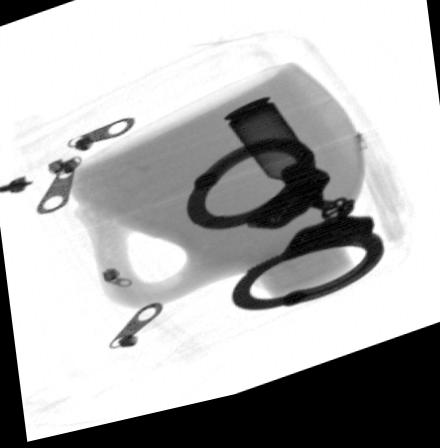Bullet: (220, 107, 319, 225)
HandCuffs: (184, 146, 386, 323)
